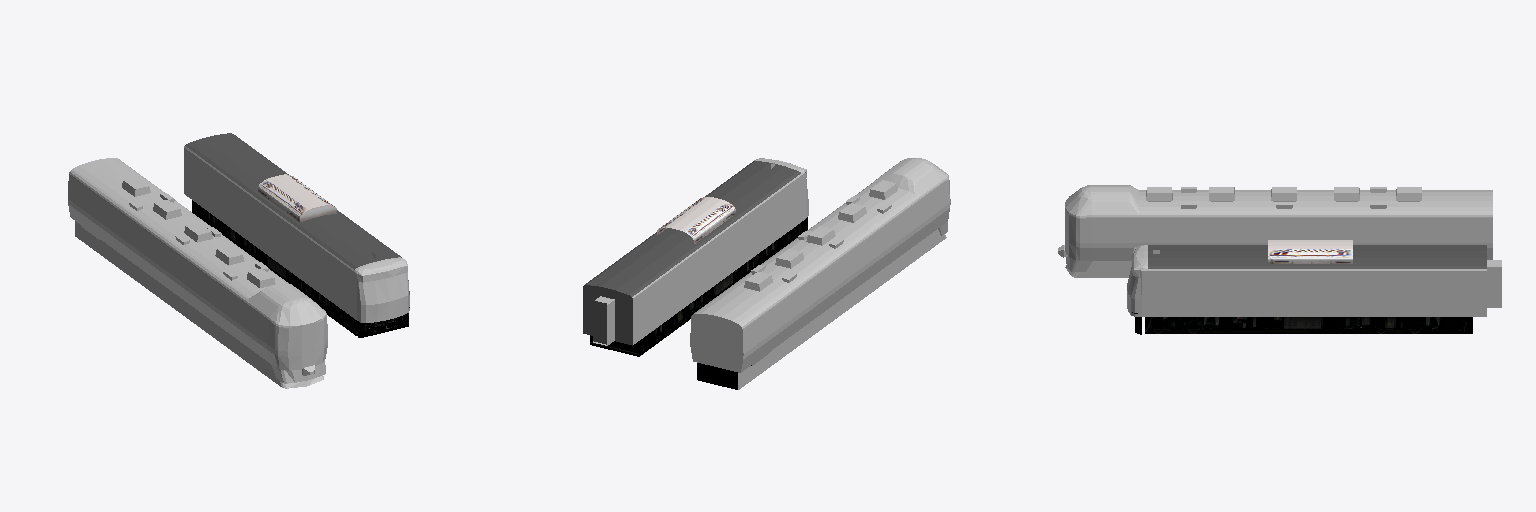
3 views of the same model, side by side, from view 1: azimuth 30°, elevation 25°; view 2: azimuth 150°, elevation 25°; view 3: azimuth 270°, elevation 25° (orthographic).
Visible parts, largest first — view 1: 485_1.001, 485_1.002, 03_1, 03_1.001, 485_1, 485_1.006, 03_1.005, 03_1.006, 03_1.007, 485_1.004, 03_1.004; view 2: 485_1.001, 485_1.002, 03_1, 03_1.001, 485_1.006, 03_1.006, 485_1.005, 03_1.007, 485_1.003; view 3: 03_1, 485_1.001, 485_1.002, 03_1.001, 03_1.006, 03_1.007, 485_1, 03_1.005, 485_1.006, 03_1.003.
Part boxes in pixels (bbox=[...]): 485_1.001: bbox=[68, 172, 325, 363]; 485_1.002: bbox=[70, 158, 288, 362]; 03_1: bbox=[184, 146, 409, 322]; 03_1.001: bbox=[185, 133, 401, 269]; 485_1: bbox=[270, 297, 327, 370]; 485_1.006: bbox=[75, 221, 279, 385]; 03_1.005: bbox=[355, 257, 409, 322]; 03_1.006: bbox=[192, 200, 357, 335]; 03_1.007: bbox=[258, 174, 336, 221]; 485_1.004: bbox=[272, 360, 325, 388]; 03_1.004: bbox=[358, 313, 408, 337]; 485_1.001: bbox=[741, 159, 949, 372]; 485_1.002: bbox=[694, 180, 948, 326]; 03_1: bbox=[632, 173, 808, 344]; 03_1.001: bbox=[583, 161, 800, 345]; 485_1.006: bbox=[738, 229, 944, 389]; 03_1.006: bbox=[590, 221, 802, 356]; 485_1.005: bbox=[690, 314, 743, 372]; 03_1.007: bbox=[657, 197, 735, 243]; 485_1.003: bbox=[697, 363, 751, 389]; 03_1: bbox=[1135, 269, 1486, 316]; 485_1.001: bbox=[1076, 185, 1492, 260]; 485_1.002: bbox=[1139, 187, 1492, 214]; 03_1.001: bbox=[1148, 245, 1486, 268]; 03_1.006: bbox=[1145, 317, 1472, 333]; 03_1.007: bbox=[1268, 240, 1352, 263]; 485_1: bbox=[1065, 185, 1091, 260]; 03_1.005: bbox=[1127, 245, 1147, 316]; 485_1.006: bbox=[1078, 261, 1131, 277]; 03_1.003: bbox=[1487, 260, 1501, 307].
Bounding box in the file's own units: 9.08 × 4.25 × 21.36.
16 materials, 3 textured.